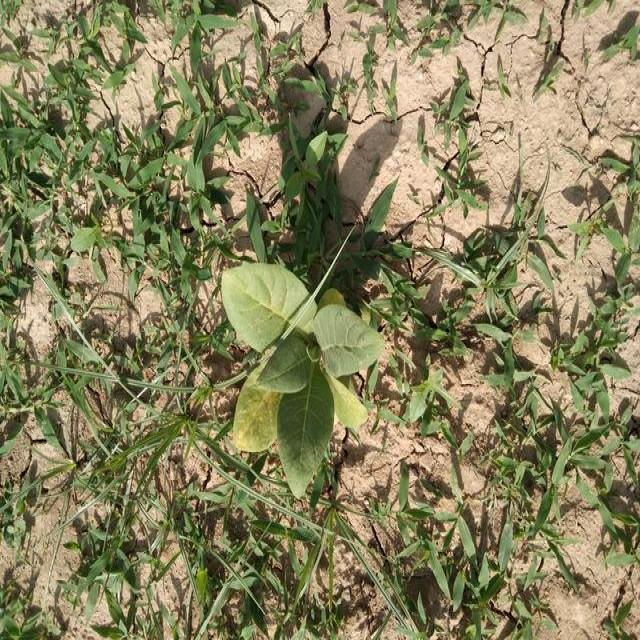crop: (215, 257, 384, 501)
